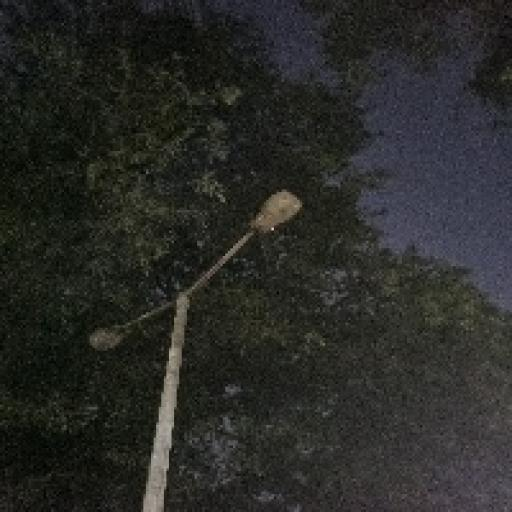Not Working: (232, 180, 310, 248), (72, 314, 146, 360)
